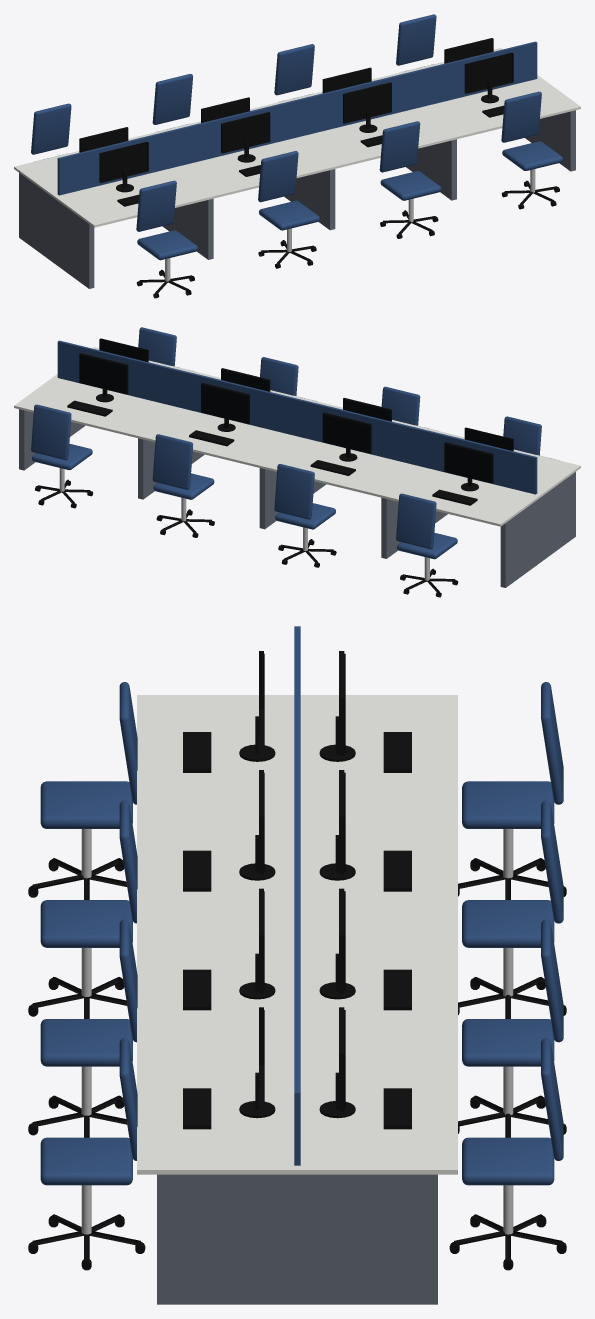
The model's file is office.desk.bench_8.glb.
3 renders of one model, top to bottom at view 1: azimuth 30°, elevation 25°; view 2: azimuth 150°, elevation 25°; view 3: azimuth 270°, elevation 25°, orthographic. The views are drawn at different scales.
Parts seen in each view (by area): view 1: chairs__fabric_blue, desk__laminate_white, desk__fabric_blue, desk__steel_painted, kit__plastic_black, chairs__plastic_black, chairs__steel_stainless; view 2: desk__laminate_white, chairs__fabric_blue, desk__fabric_blue, desk__steel_painted, kit__screen, kit__plastic_black, chairs__plastic_black, chairs__steel_stainless; view 3: desk__laminate_white, chairs__fabric_blue, desk__steel_painted, kit__plastic_black, chairs__plastic_black, chairs__steel_stainless, desk__fabric_blue, kit__screen.
Part boxes in pixels (x1,y1,x2,y2): chairs__fabric_blue: (31, 14, 562, 260); desk__laminate_white: (14, 48, 580, 227); desk__fabric_blue: (57, 41, 537, 195); desk__steel_painted: (19, 110, 575, 288); kit__plastic_black: (79, 38, 513, 206); chairs__plastic_black: (136, 180, 559, 298); chairs__steel_stainless: (165, 169, 535, 281); desk__laminate_white: (14, 347, 580, 526); chairs__fabric_blue: (31, 327, 554, 559); desk__fabric_blue: (57, 340, 537, 494); desk__steel_painted: (19, 409, 575, 587); kit__screen: (80, 340, 511, 482); kit__plastic_black: (67, 338, 513, 505); chairs__plastic_black: (35, 479, 458, 597); chairs__steel_stainless: (59, 468, 429, 580); desk__laminate_white: (137, 695, 457, 1174); chairs__fabric_blue: (40, 682, 563, 1185); desk__steel_painted: (157, 1174, 437, 1304); kit__plastic_black: (183, 651, 411, 1129); chairs__plastic_black: (28, 858, 566, 1270); chairs__steel_stainless: (81, 829, 513, 1234); desk__fabric_blue: (294, 626, 300, 1165); kit__screen: (263, 653, 345, 1109).
Size of the model in its own units: 5.6 by 1.18 by 2.68.
